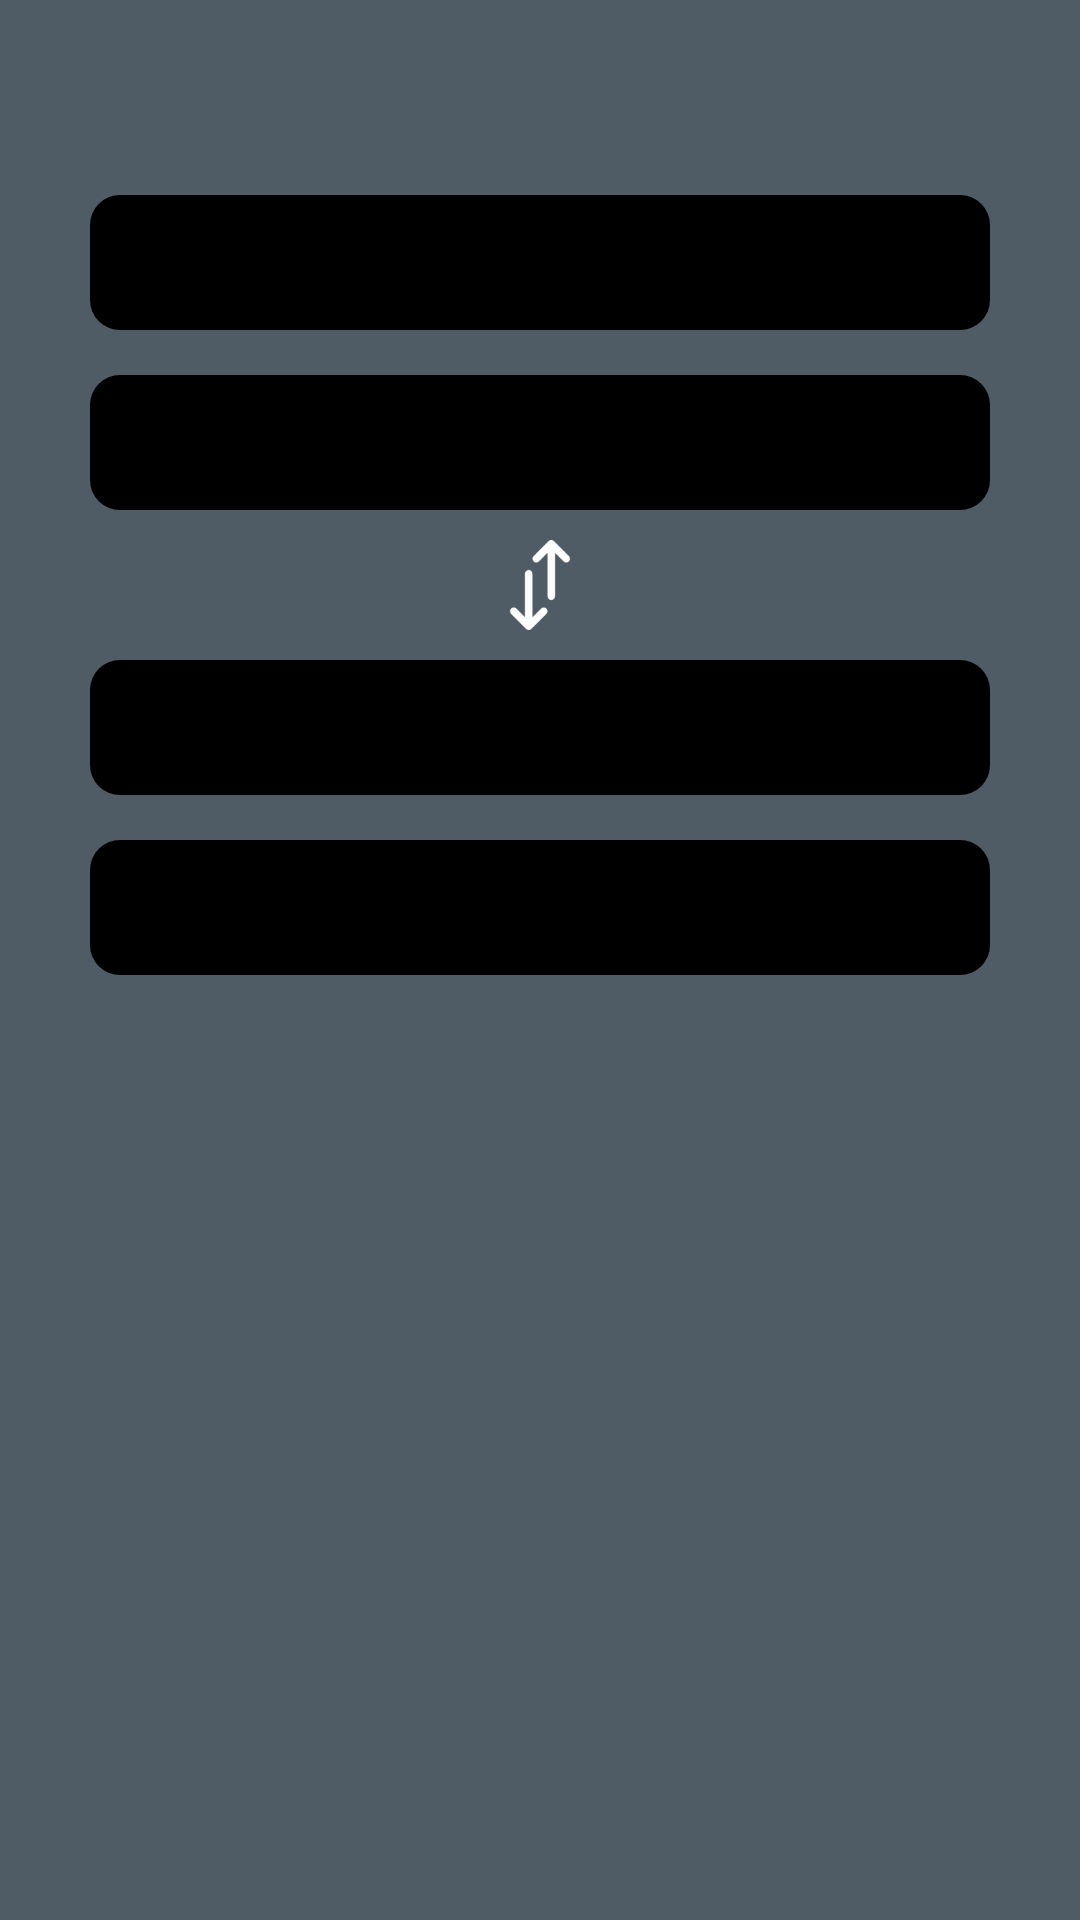

Screen size 1080*1920. Icon name, then its box in pixels as (x1, y1, x2, y2):
swap: (510, 540, 570, 630)
